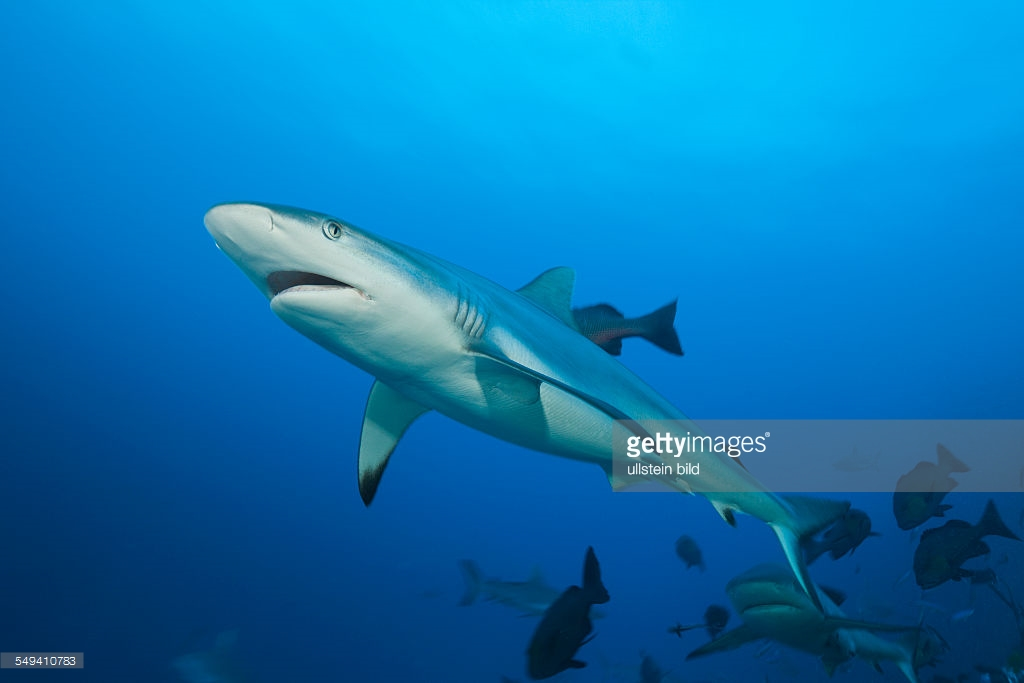Carcharhinus_amblyrhynchos: (195, 198, 852, 607)
